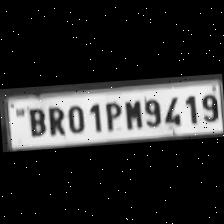0: (64, 102, 86, 134)
1: (85, 99, 104, 133), (180, 90, 198, 124)
4: (160, 92, 182, 126)
9: (197, 88, 221, 122), (140, 94, 162, 128)
B: (24, 105, 46, 136)
M: (120, 96, 142, 130)
P: (100, 97, 122, 130)
R: (44, 102, 64, 136)
